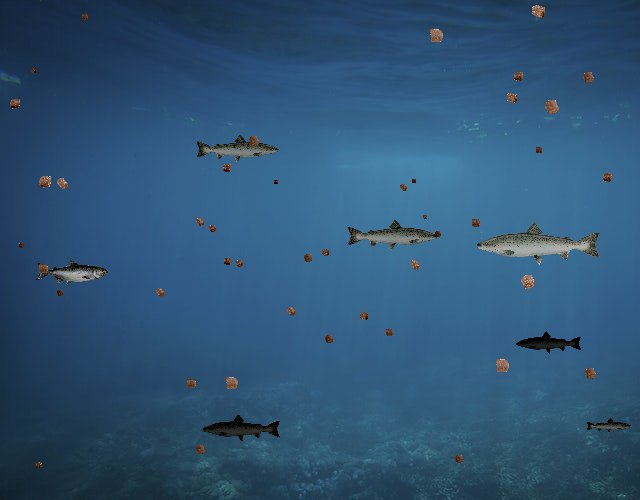Fish: (474, 220, 603, 266), (345, 218, 439, 252), (194, 133, 280, 164), (201, 413, 282, 443), (36, 259, 109, 286), (515, 330, 583, 354), (585, 417, 632, 434)
Pellet: (50, 171, 75, 196), (578, 361, 602, 385), (449, 449, 468, 468), (32, 458, 46, 472), (27, 64, 39, 76)
